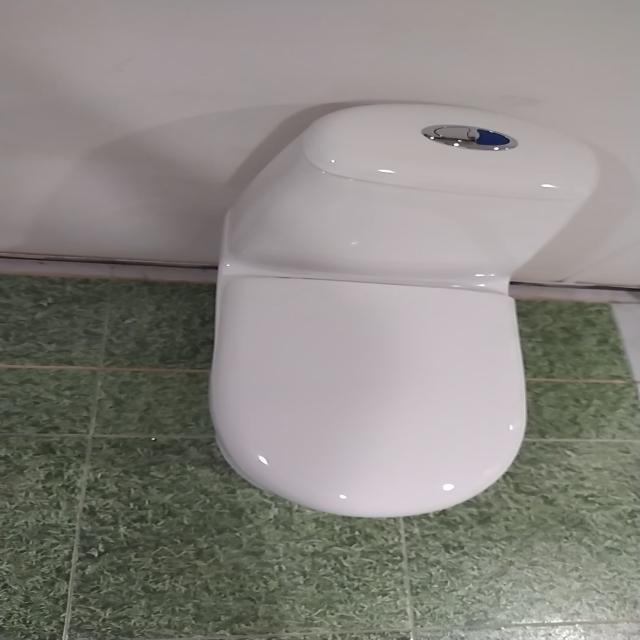toilet: (207, 101, 602, 518)
